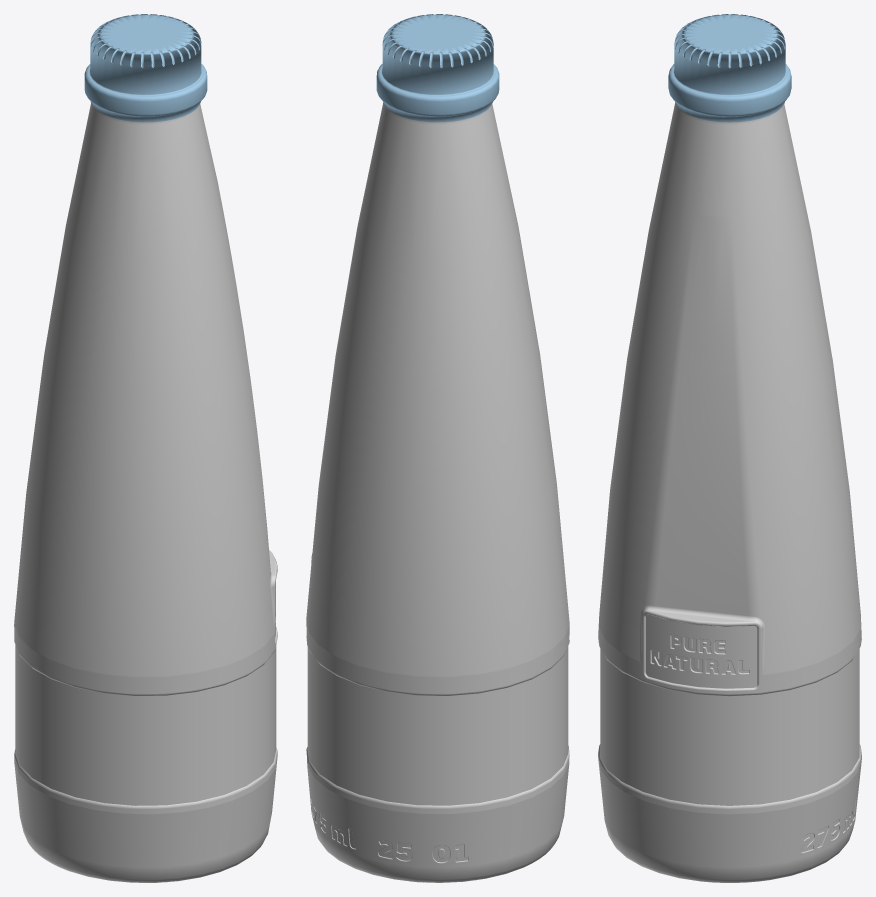
Rendered from bogibaland275.glb.
The picture shows the model from 3 angles, left to right: view 1: azimuth 30°, elevation 25°; view 2: azimuth 150°, elevation 25°; view 3: azimuth 270°, elevation 25°; orthographic projection.
Visible parts, largest first — view 1: stitch_result_stitch all, Circle; view 2: stitch_result_stitch all, Circle; view 3: stitch_result_stitch all, Circle.
Part boxes in pixels (left/top/right/bottom): stitch_result_stitch all: left=14, top=103, right=277, bottom=882; Circle: left=84, top=14, right=207, bottom=122; stitch_result_stitch all: left=306, top=103, right=569, bottom=882; Circle: left=376, top=14, right=499, bottom=122; stitch_result_stitch all: left=598, top=103, right=861, bottom=882; Circle: left=668, top=14, right=791, bottom=122.
Size of the model in its own units: 0.061 by 0.2041 by 0.061.
